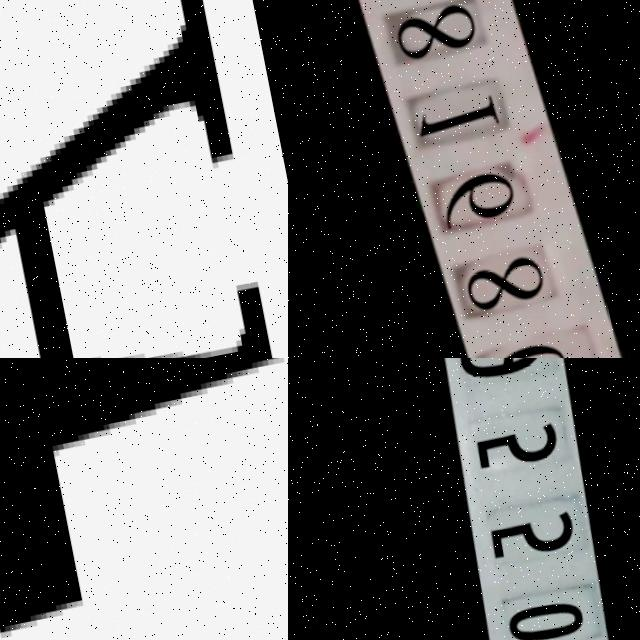0: (497, 583, 590, 640), (472, 323, 582, 358)
1: (402, 71, 506, 154)
5: (478, 491, 582, 568), (465, 404, 565, 478)
6: (422, 152, 528, 235)
8: (450, 238, 554, 320), (379, 0, 488, 70)
9: (447, 358, 555, 391)
A: (0, 0, 288, 358)
T: (0, 358, 288, 639)
